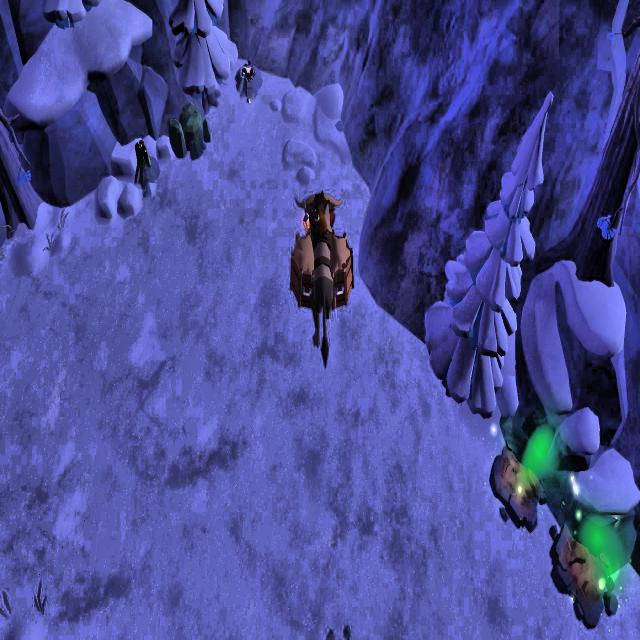ore_t3: (134, 139, 150, 173)
rock_t3: (161, 96, 215, 166)
